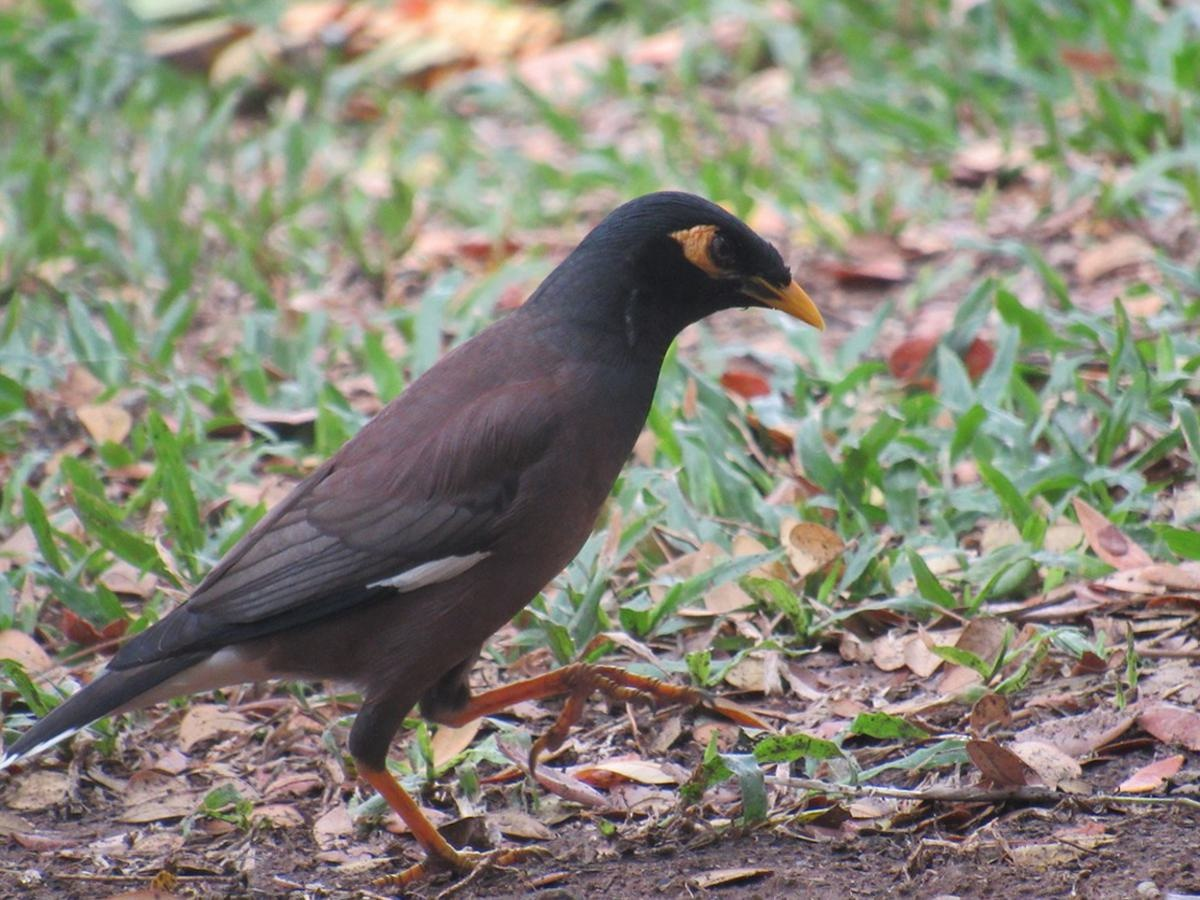myna: (99, 160, 873, 900)
